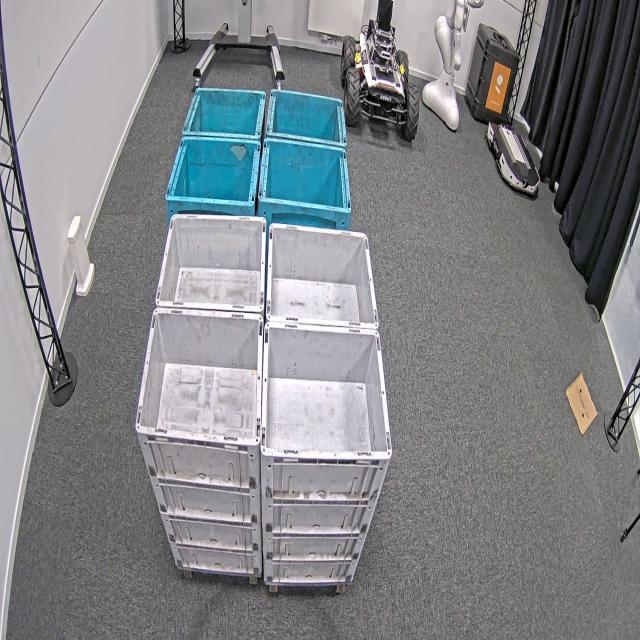Roll8G: (260, 220, 394, 464), (134, 212, 268, 446)
RollB8: (164, 84, 267, 208), (258, 87, 352, 215)
